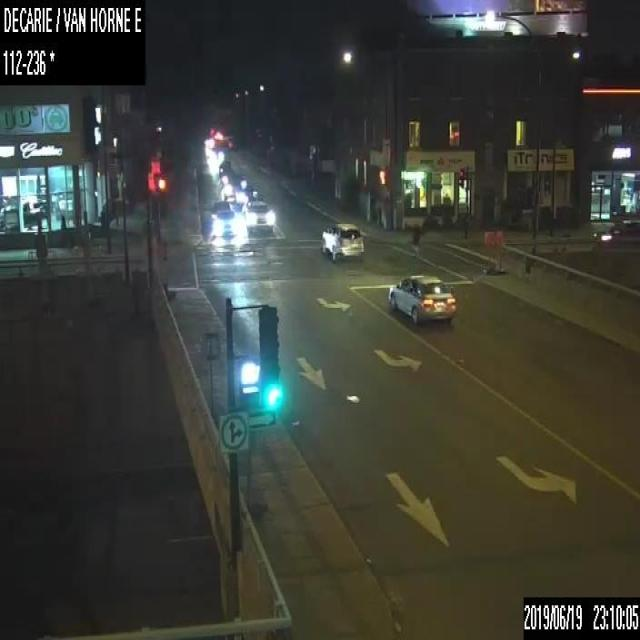construction: (241, 427, 265, 517), (201, 330, 223, 426), (495, 228, 505, 274), (485, 230, 493, 274)
pedestrian: (412, 223, 422, 258)
vehicle: (388, 272, 456, 324), (320, 221, 363, 260), (592, 218, 639, 245), (245, 200, 273, 233), (212, 208, 237, 235), (210, 201, 231, 223), (218, 159, 232, 176)
